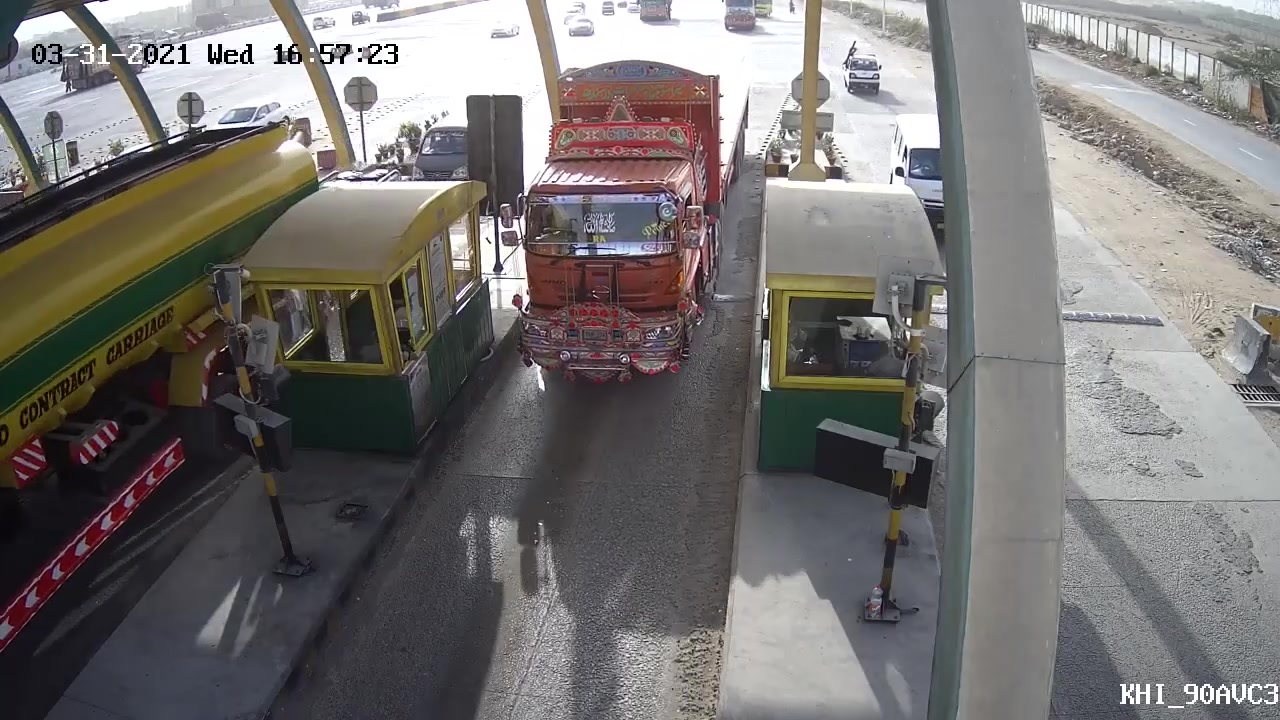F6: (491, 55, 752, 387)
